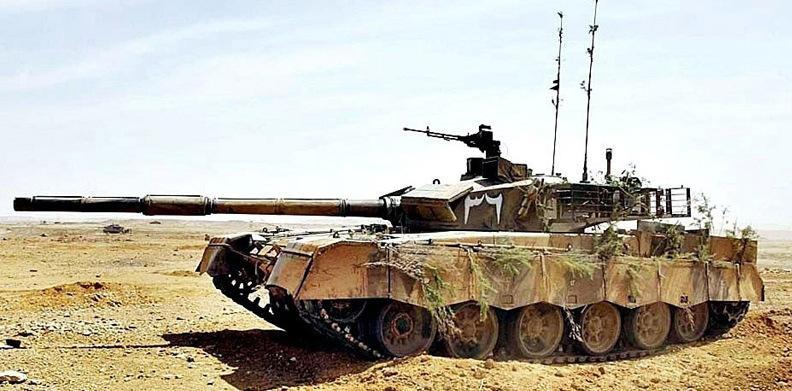tank: (8, 120, 769, 363)
